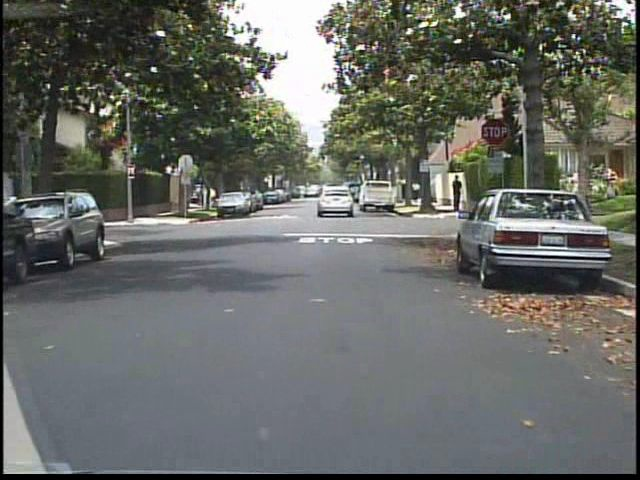person: (448, 174, 469, 215), (412, 178, 423, 205)
